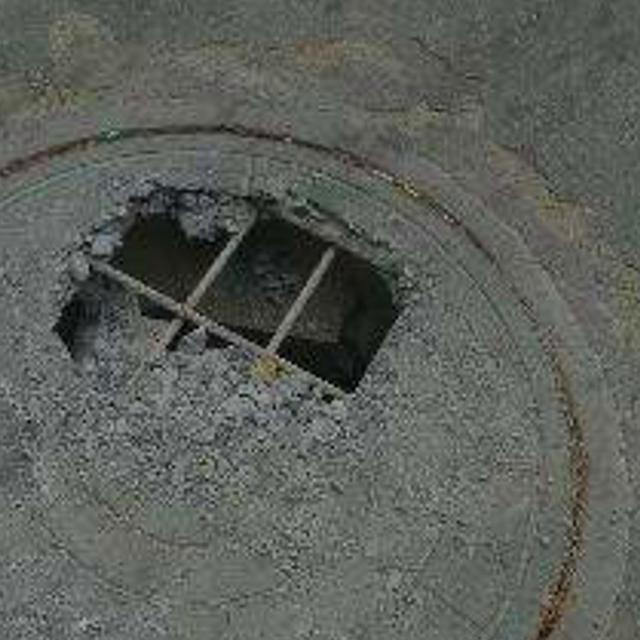broke: (0, 124, 615, 640)
